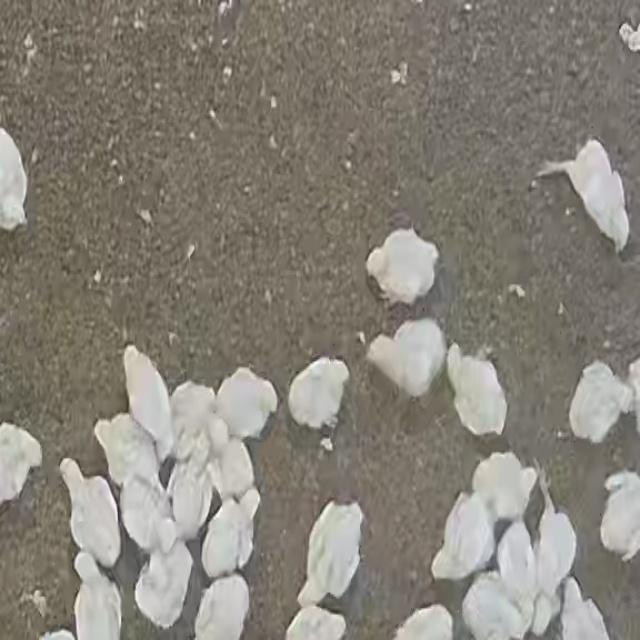chicken: (537, 135, 632, 255), (298, 498, 364, 608), (533, 466, 575, 635), (59, 459, 123, 569), (365, 318, 448, 402), (123, 344, 176, 457), (446, 342, 508, 438), (368, 230, 441, 311), (431, 491, 494, 581), (567, 361, 632, 444), (133, 542, 193, 630), (287, 356, 351, 436), (96, 412, 160, 490), (215, 368, 278, 443), (470, 450, 535, 521), (201, 498, 256, 580), (171, 439, 216, 539), (118, 472, 174, 552), (72, 554, 123, 640), (460, 575, 522, 640), (498, 522, 534, 632), (1, 423, 44, 515), (192, 575, 252, 640), (599, 469, 640, 563), (169, 380, 218, 457), (0, 124, 30, 231), (556, 583, 612, 640), (212, 435, 258, 504), (387, 604, 457, 640), (279, 606, 346, 640)
